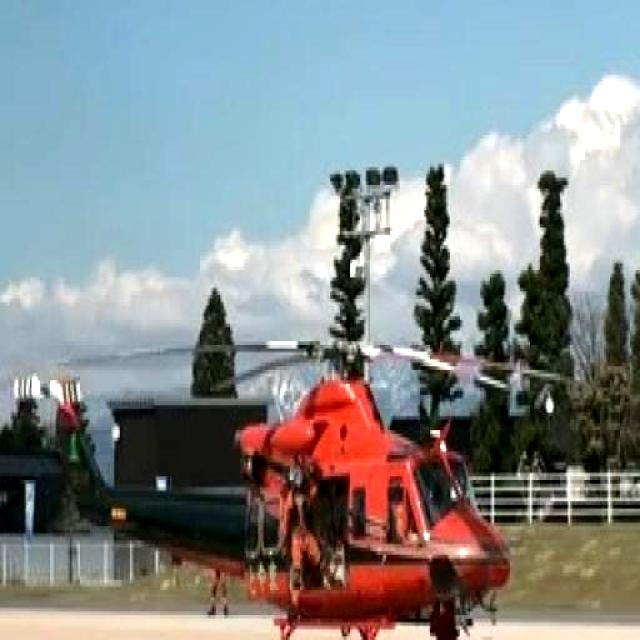drone: (24, 302, 531, 640)
